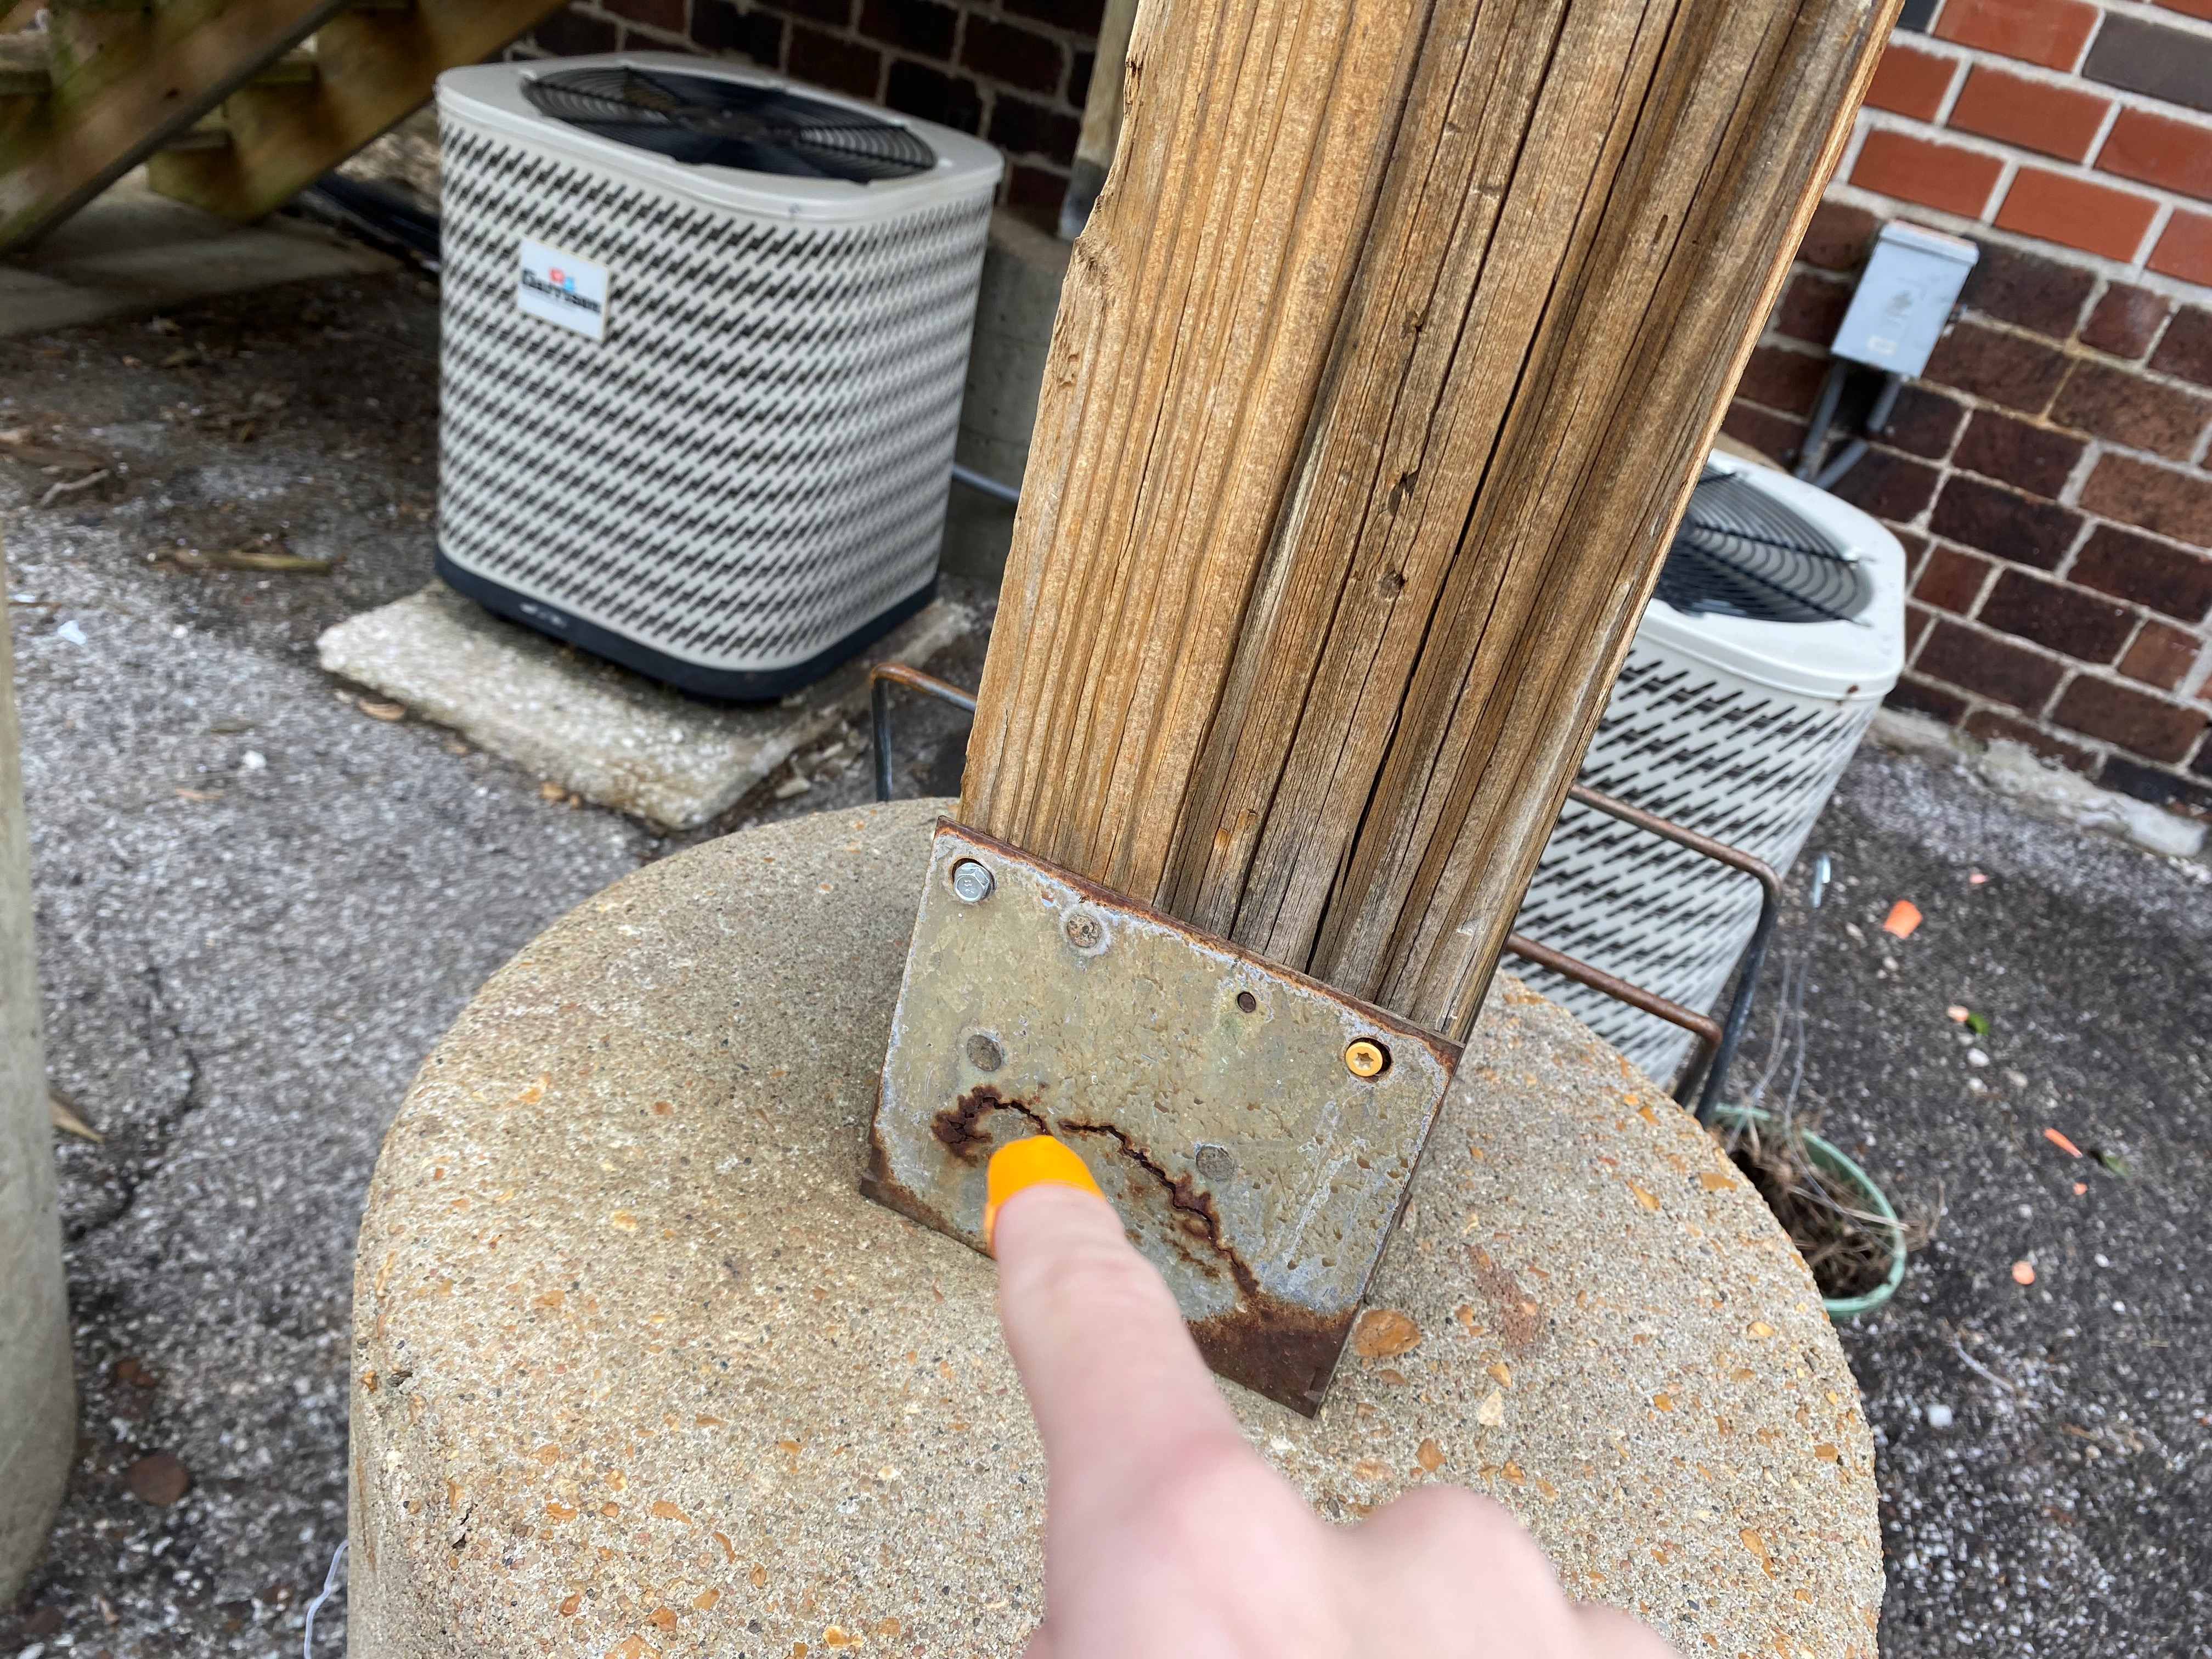fingertip: (954, 1127, 1191, 1281)
